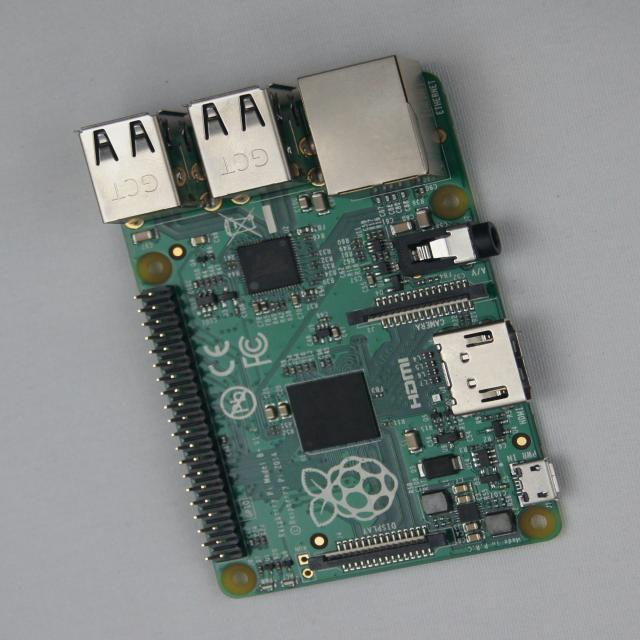Raspberry Pi 1 B-: (80, 57, 559, 597)
